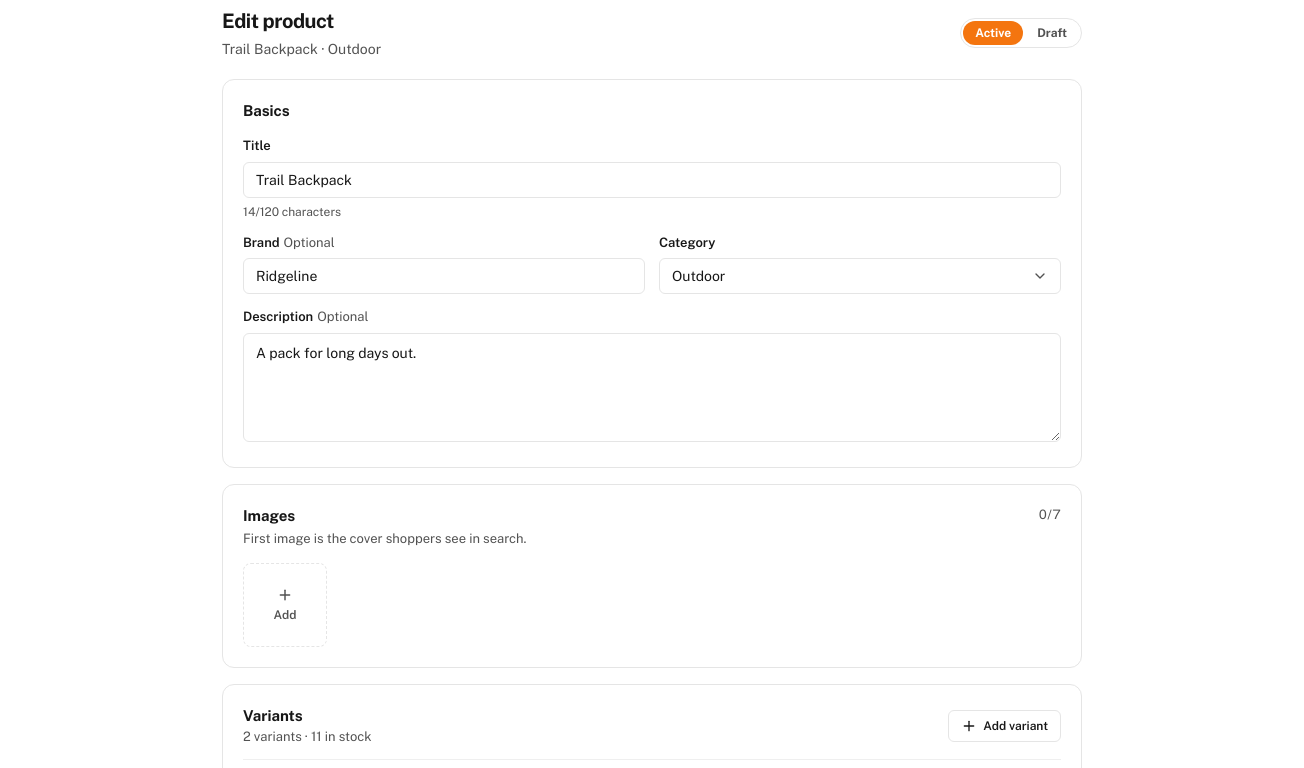
it: when part of a save fails › saves the parts that can be saved and names the part that could not
This screenshot has width=1304, height=768.
Replace the text in the field labelled "Title" with "Trail/Backpack" at (652, 180), box [243, 162, 1061, 198]
(page scrolled)
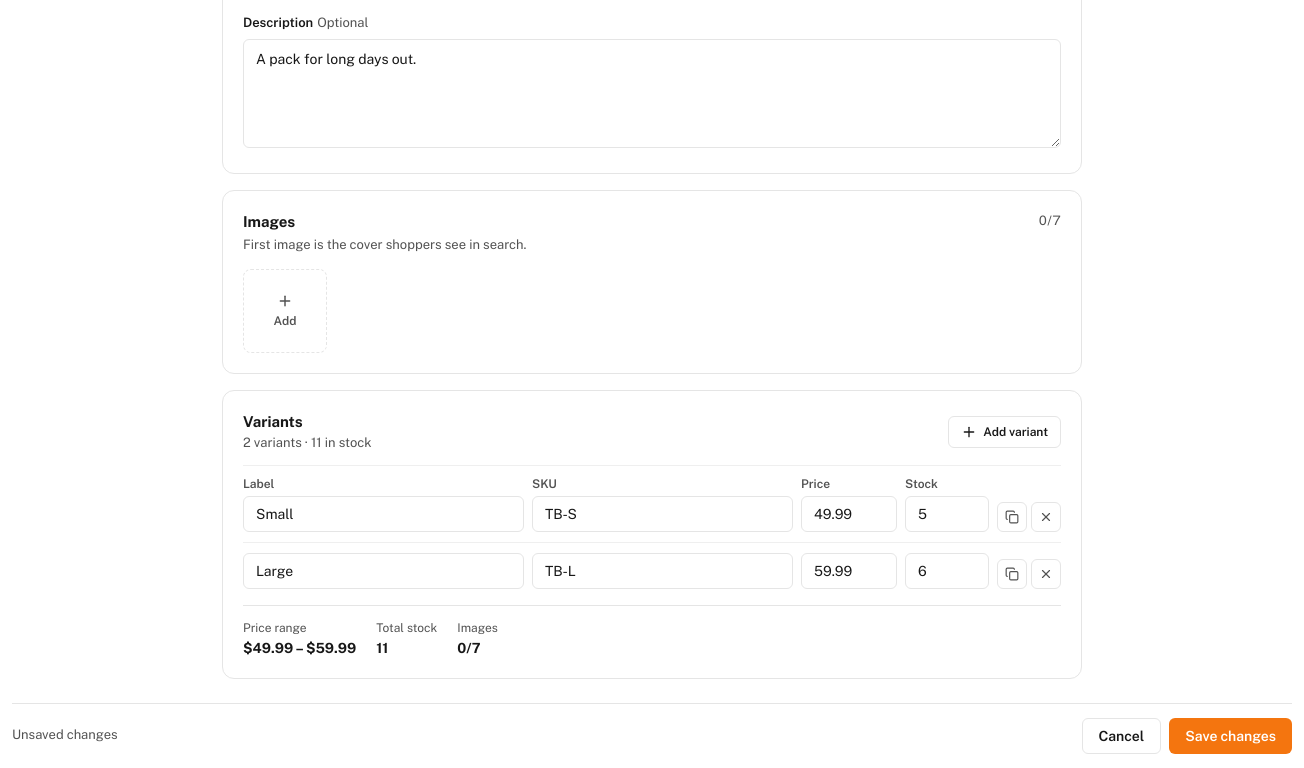
Replace the text in the number field named "Variant 1 stock quantity" with "12" at (947, 514), box [905, 496, 989, 532]
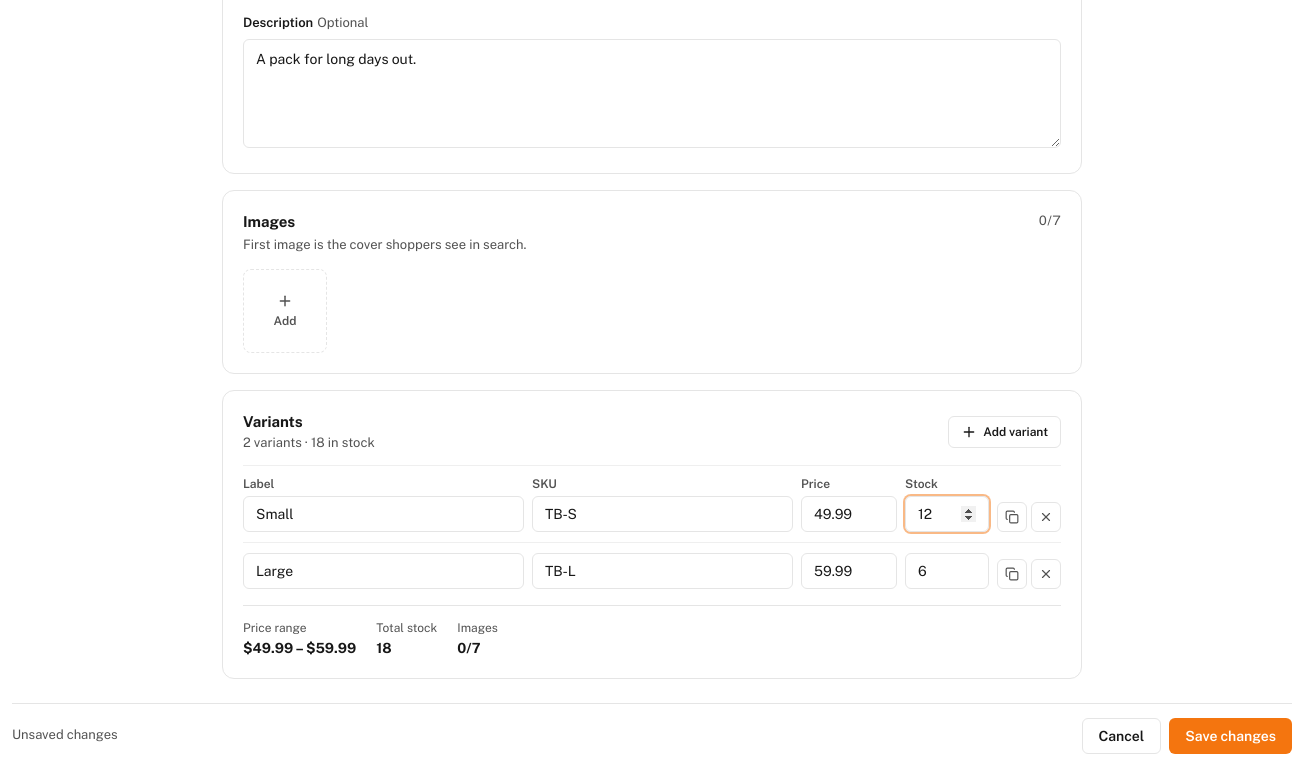
Click the button "Save changes" at (1231, 736), box [1169, 718, 1292, 754]
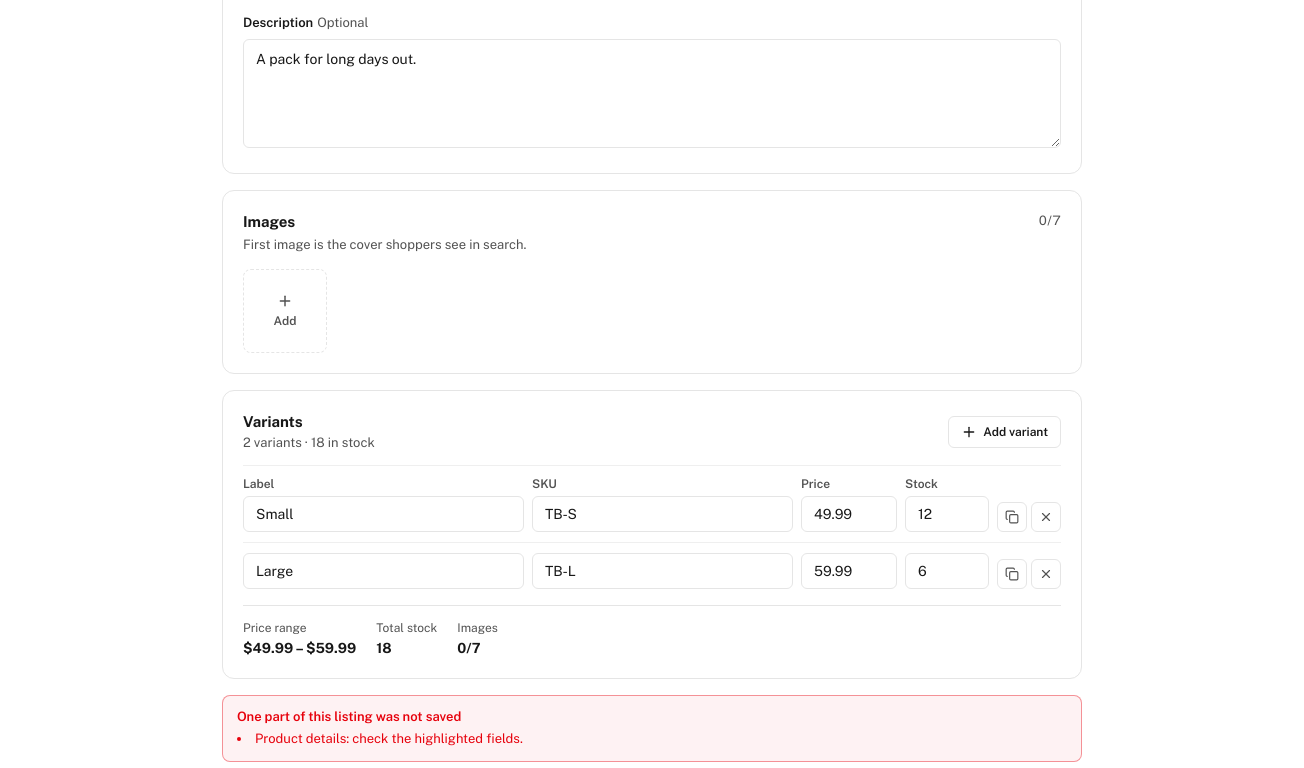
Expected: the list item "Product details: check the highlighted fields." is shown, [255, 731, 523, 746]
